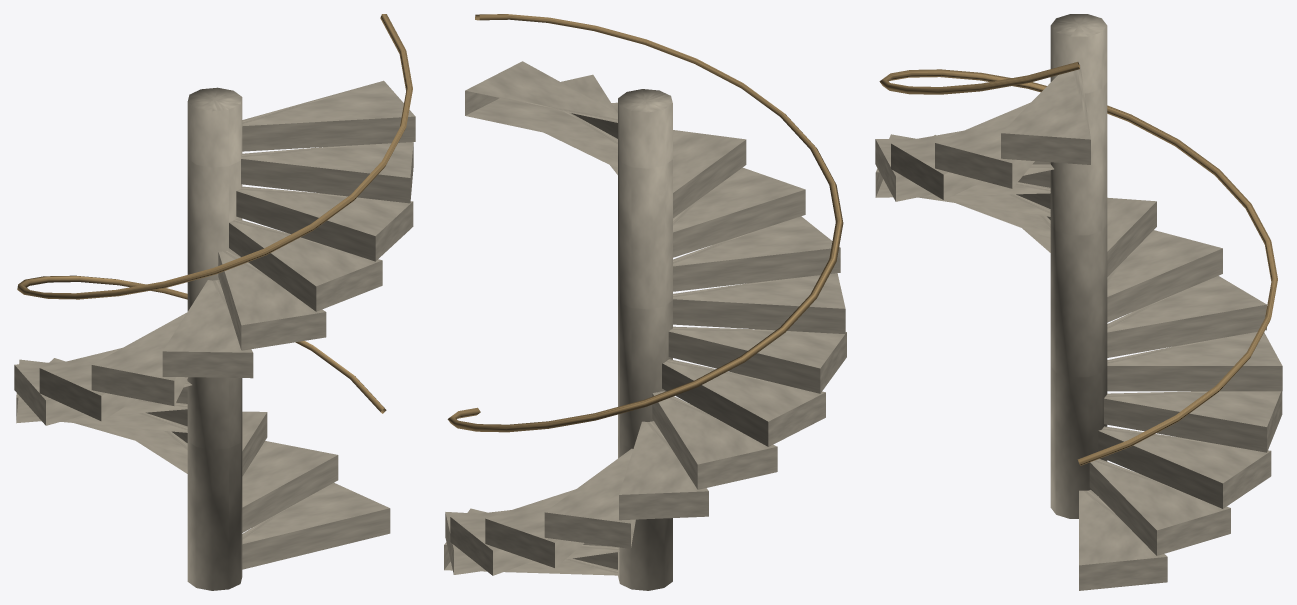
File: Stair_Spiral_1.gltf
3 views of the same model, side by side, from view 1: azimuth 30°, elevation 25°; view 2: azimuth 150°, elevation 25°; view 3: azimuth 270°, elevation 25° (orthographic).
Parts seen in each view (by area): view 1: Stair_Spiral_1; view 2: Stair_Spiral_1; view 3: Stair_Spiral_1.
Part boxes in pixels (bbox=[...]): Stair_Spiral_1: bbox=[14, 14, 415, 590]; Stair_Spiral_1: bbox=[444, 14, 846, 590]; Stair_Spiral_1: bbox=[875, 14, 1282, 590].
Size of the model in its own units: 2.6 by 3.72 by 2.6.
2 materials, 2 textured.
